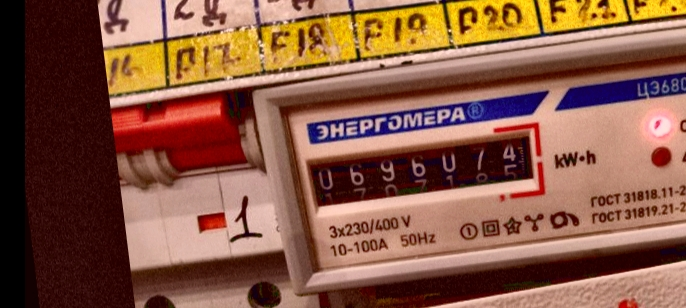0: (314, 165, 336, 192), (440, 146, 459, 174)
4: (500, 138, 519, 164)
5: (503, 162, 520, 182)
6: (347, 159, 369, 188), (408, 152, 428, 178)
7: (469, 144, 490, 172)
9: (377, 156, 398, 183)
screen: (294, 116, 554, 228)
